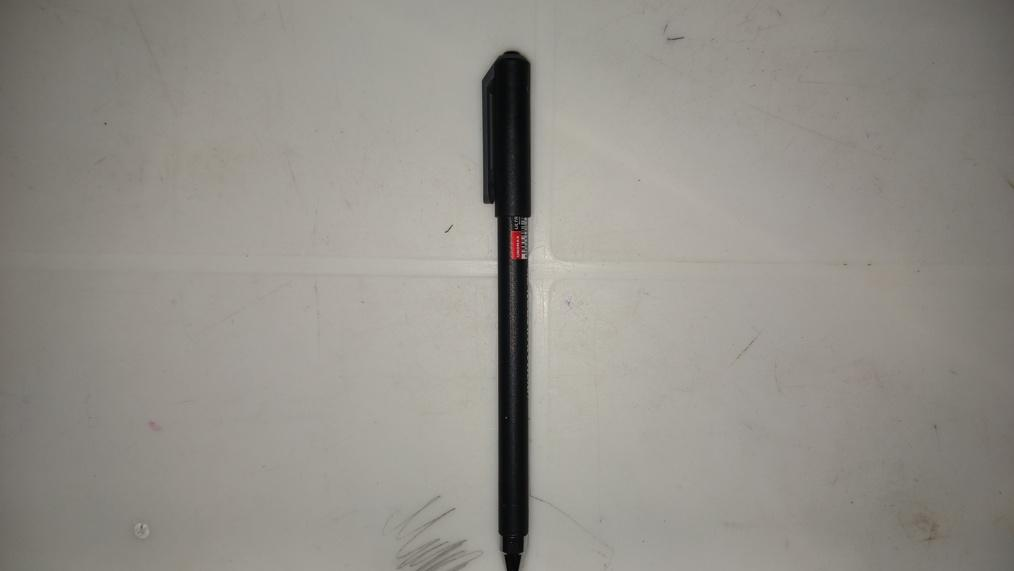pen: (483, 52, 535, 571)
